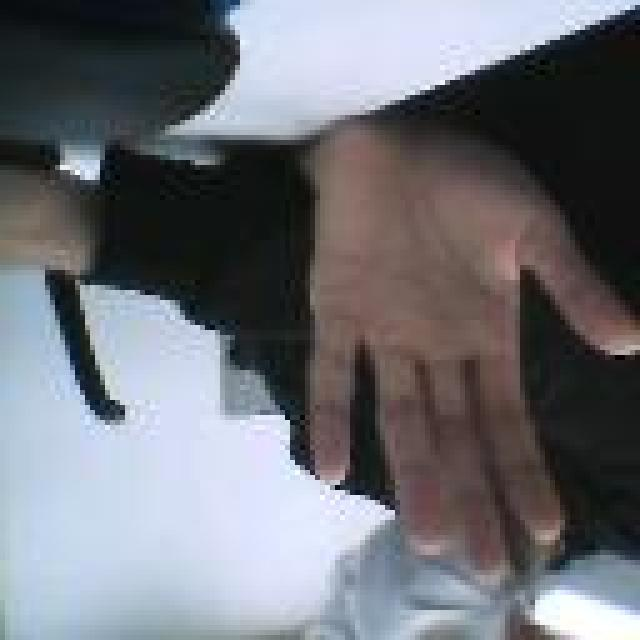hand: (290, 115, 640, 580)
